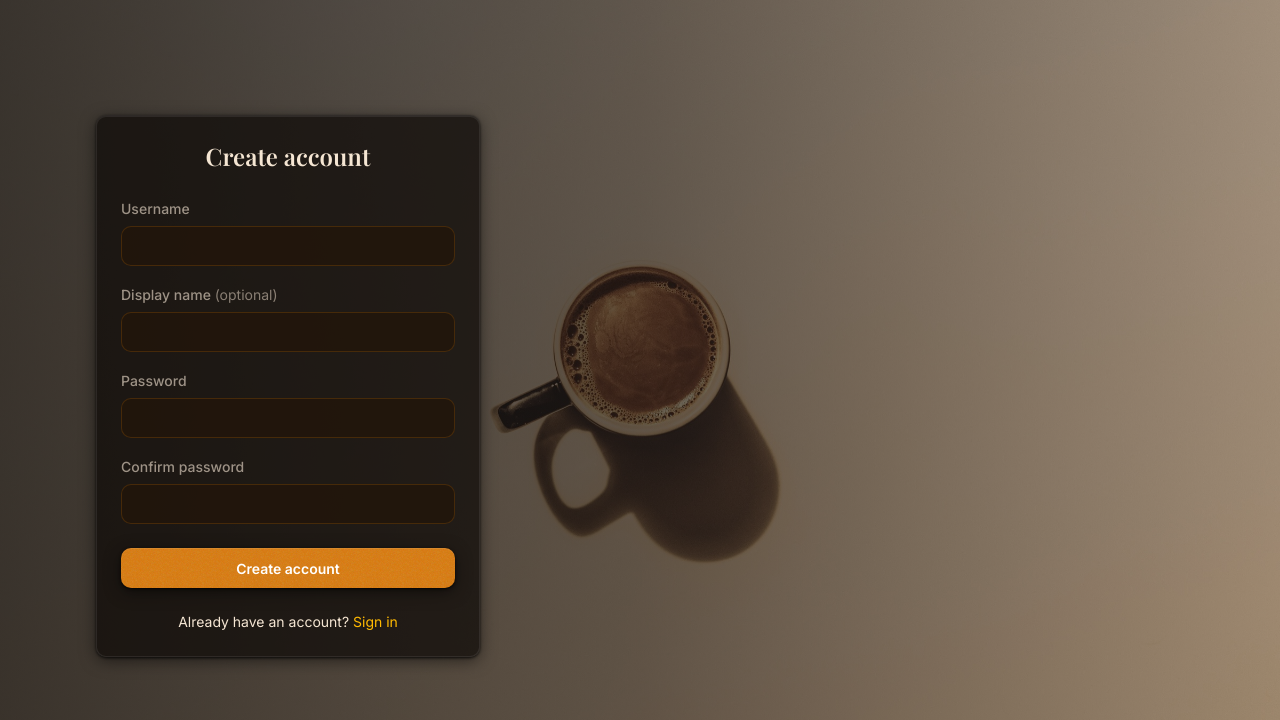
Test: Register page › shows username taken error on 409 response
In the field labelled "Username": (288, 246) [121,226,455,266], type "validuser"
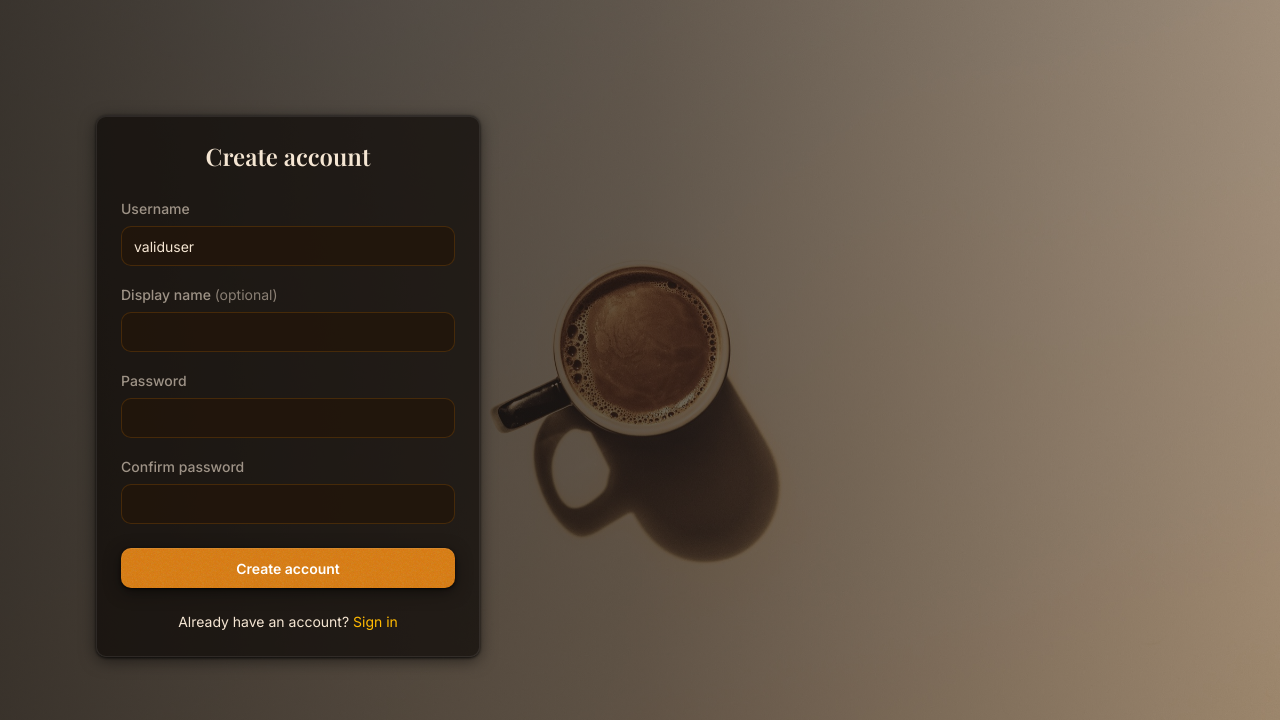
In the password field labelled "Password": (288, 418) [121,398,455,438], type "ValidPassword123!"
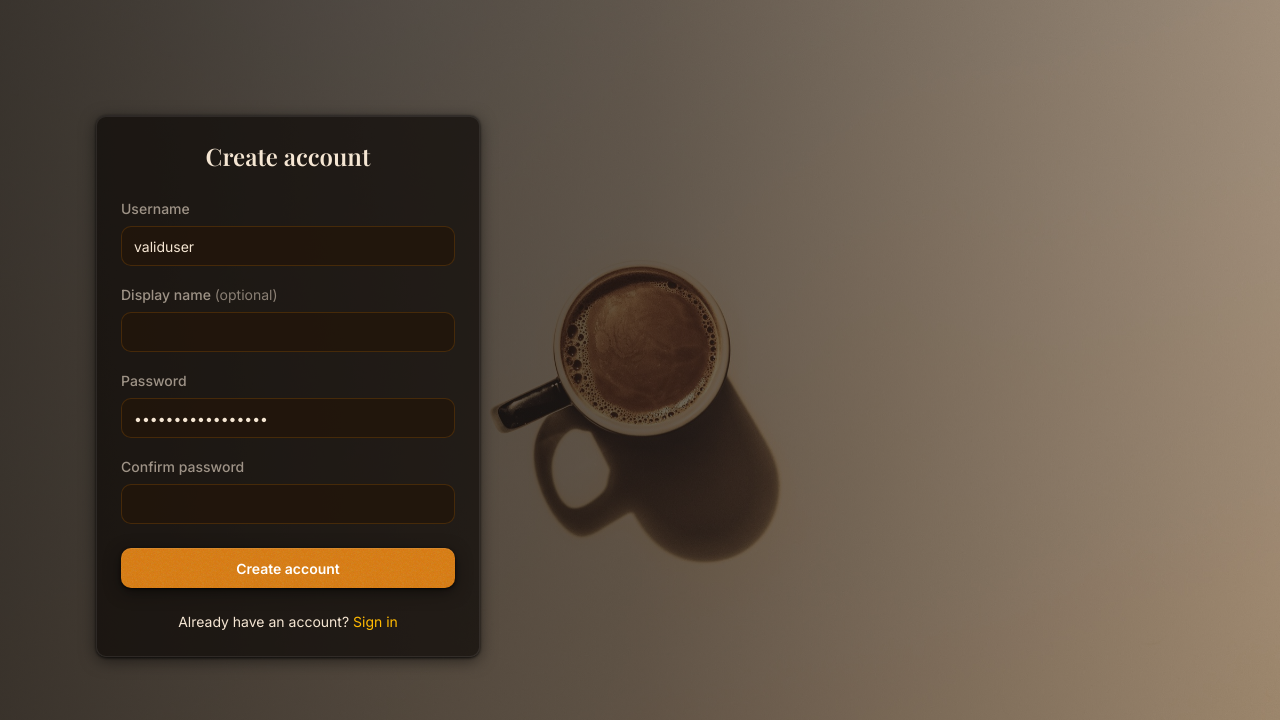
In the password field labelled "Confirm password": (288, 504) [121,484,455,524], type "ValidPassword123!"
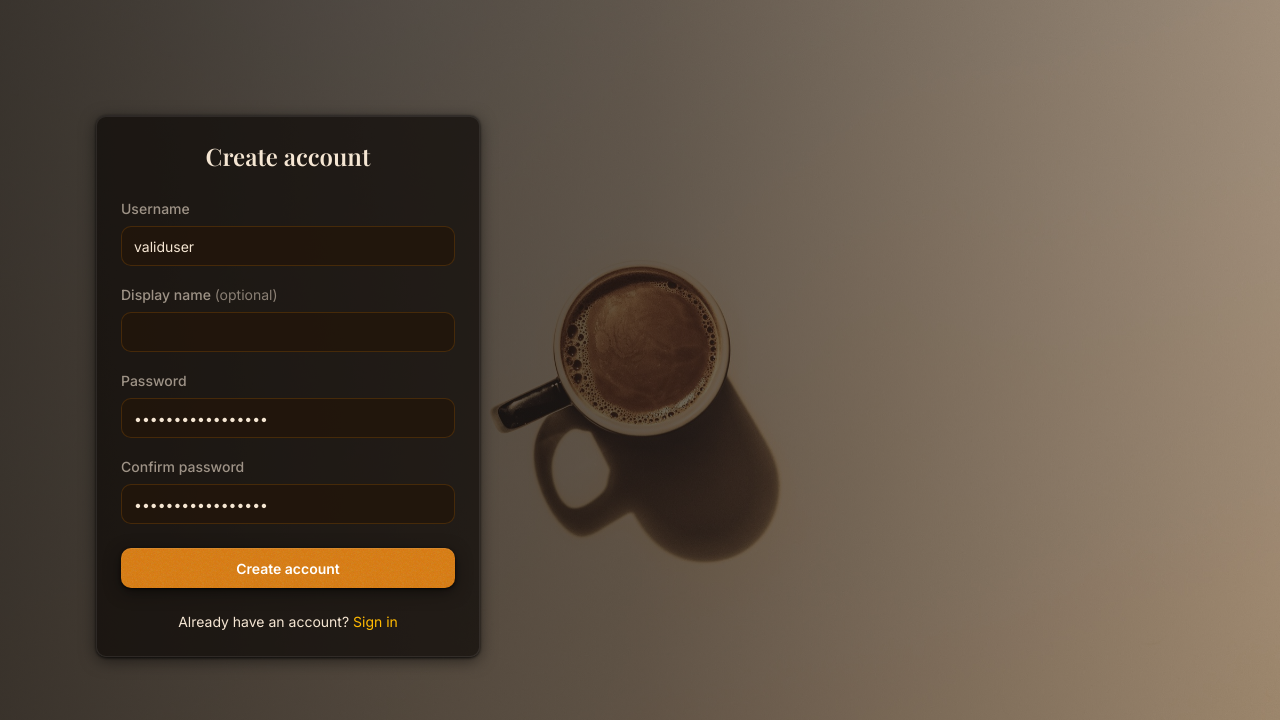
Click the button "Create account": (288, 568) [121,548,455,588]
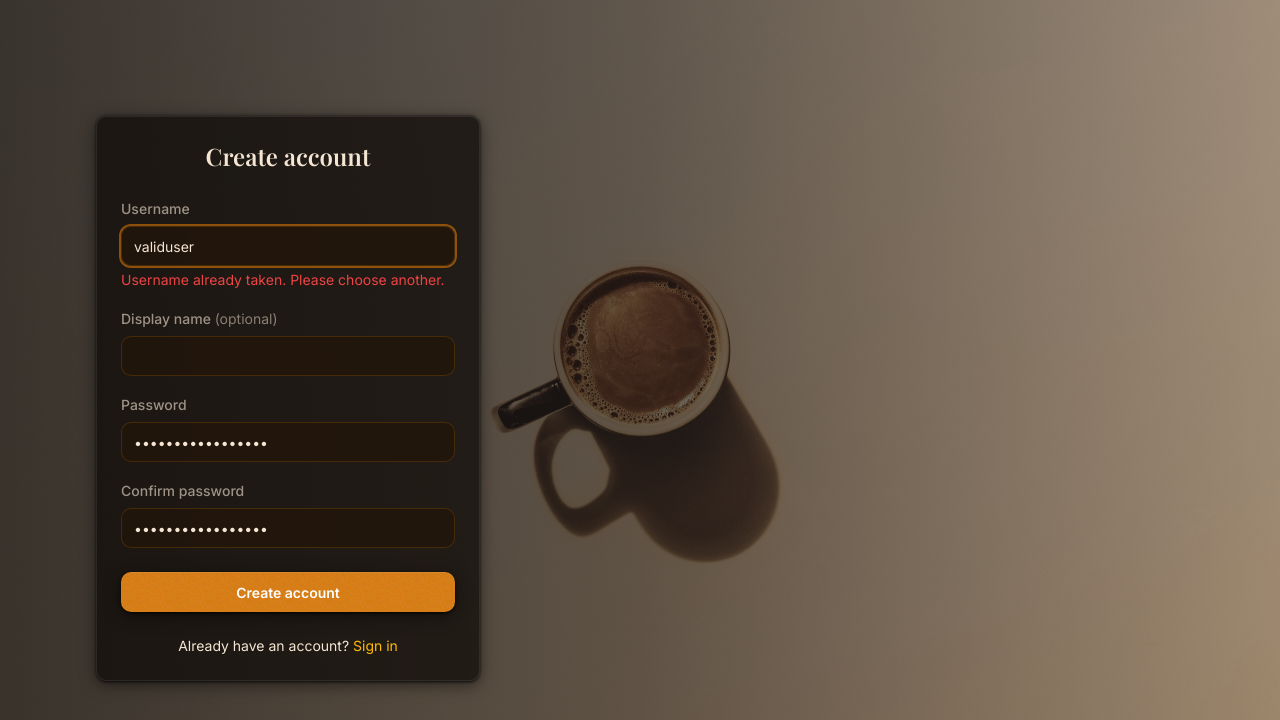
Result: the message reads "Username already taken. Please choose another." at [121,271,445,288]
